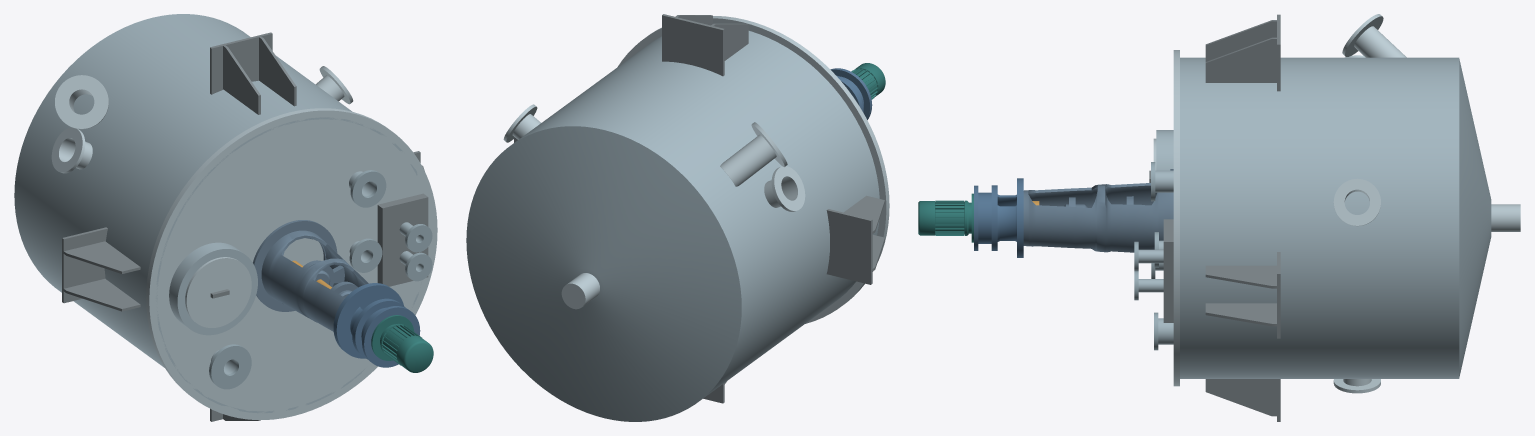
The picture shows the model from 3 angles, left to right: view 1: azimuth 30°, elevation 25°; view 2: azimuth 150°, elevation 25°; view 3: azimuth 270°, elevation 25°; orthographic projection.
Parts seen in each view (by area): view 1: 槽盖_盖板, 本体_筒壳, 支架_06_Tapered_window_frame_with_bored_seats, 接口_人孔盖, 接口_双接管安装座, 接口_人孔座圈, 驱动_01_Motor, 接口_西北斜向法兰, 托耳_翼式底板3, 支架_06_Frame_foot, 托耳_翼式底板2, 驱动_02_Base_flange_top (+13 smaller); view 2: 本体_浅锥底, 本体_筒壳, 槽盖_盖板, 托耳_翼式底板3, 托耳_翼式底板2, 接口_西北斜向接管, 接口_底排短管, 接口_西北水平法兰, 托耳_翼式筋板2_+1, 托耳_翼式筋板3_-1, 驱动_01_Motor, 驱动_02_Upper_mount_flange (+1 smaller); view 3: 本体_筒壳, 支架_06_Tapered_window_frame_with_bored_seats, 本体_浅锥底, 托耳_翼式筋板2_-1, 槽盖_盖板, 托耳_翼式筋板4_+1, 驱动_01_Motor, 托耳_翼式筋板1_+1, 托耳_翼式筋板1_-1, 托耳_翼式筋板2_+1, 接口_东北法兰, 接口_双接管安装座 (+5 smaller).
Boxes of the visible parts, x1,y1,x2,y2 form: 槽盖_盖板: (146, 108, 437, 419); 本体_筒壳: (14, 14, 429, 413); 支架_06_Tapered_window_frame_with_bored_seats: (261, 230, 368, 331); 接口_人孔盖: (185, 257, 251, 327); 接口_双接管安装座: (377, 193, 428, 286); 接口_人孔座圈: (169, 242, 257, 335); 驱动_01_Motor: (371, 315, 433, 372); 接口_西北斜向法兰: (55, 75, 108, 129); 托耳_翼式底板3: (62, 227, 107, 303); 支架_06_Frame_foot: (253, 220, 337, 311); 托耳_翼式底板2: (210, 32, 272, 94); 驱动_02_Base_flange_top: (335, 284, 403, 358); 本体_浅锥底: (466, 126, 741, 421); 本体_筒壳: (516, 31, 879, 398); 槽盖_盖板: (618, 16, 889, 323); 托耳_翼式底板3: (826, 209, 872, 284); 托耳_翼式底板2: (662, 14, 724, 76); 接口_西北斜向接管: (720, 134, 776, 186); 接口_底排短管: (561, 273, 599, 309); 接口_西北水平法兰: (771, 166, 805, 211); 托耳_翼式筋板2_+1: (711, 23, 748, 60); 托耳_翼式筋板3_-1: (844, 195, 884, 233); 驱动_01_Motor: (854, 63, 885, 97); 驱动_02_Upper_mount_flange: (830, 68, 872, 119); 本体_筒壳: (1180, 57, 1459, 378); 支架_06_Tapered_window_frame_with_bored_seats: (1023, 183, 1170, 252); 本体_浅锥底: (1459, 59, 1491, 376); 托耳_翼式筋板2_-1: (1205, 37, 1276, 82); 槽盖_盖板: (1173, 50, 1179, 386); 托耳_翼式筋板4_+1: (1205, 379, 1276, 416); 驱动_01_Motor: (918, 193, 973, 242); 托耳_翼式筋板1_+1: (1205, 265, 1276, 288); 托耳_翼式筋板1_-1: (1205, 303, 1276, 326); 托耳_翼式筋板2_+1: (1205, 20, 1276, 61); 接口_东北法兰: (1333, 178, 1380, 226); 接口_双接管安装座: (1163, 219, 1173, 322).
Bounding box in the file's own units: 2.33 × 2.33 × 3.38.
